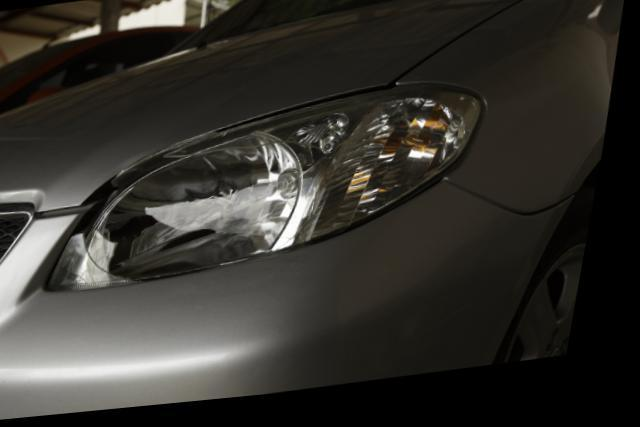lamp broken: (57, 91, 488, 294)
